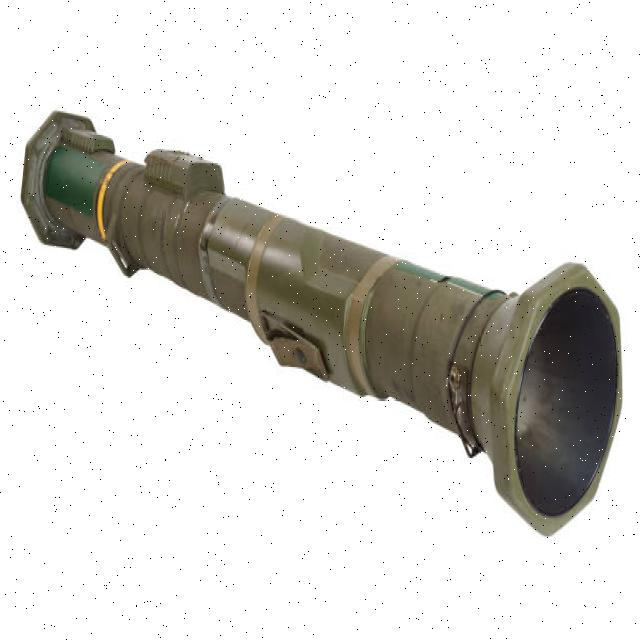bazooka: (14, 101, 631, 546)
